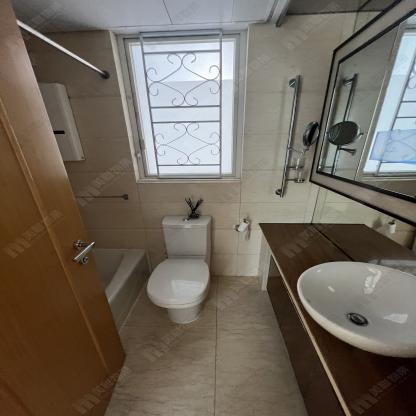Toilet: (145, 215, 213, 322)
Toilet Sink: (297, 261, 416, 357)
